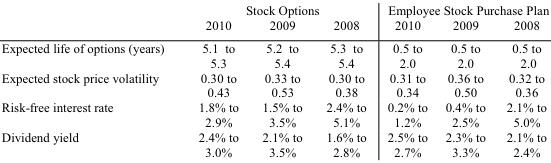table: (0, 0, 548, 159)
table column: (0, 0, 180, 159), (180, 0, 249, 159), (249, 0, 313, 159), (313, 0, 376, 159), (435, 0, 495, 159), (376, 0, 435, 159), (495, 0, 548, 159)
table column header: (0, 0, 548, 35)
table row: (0, 35, 548, 69), (0, 69, 548, 99), (0, 99, 548, 129), (0, 129, 548, 159), (0, 16, 548, 35), (0, 0, 548, 16)
table spanning cell: (180, 0, 376, 16), (376, 0, 548, 16)
